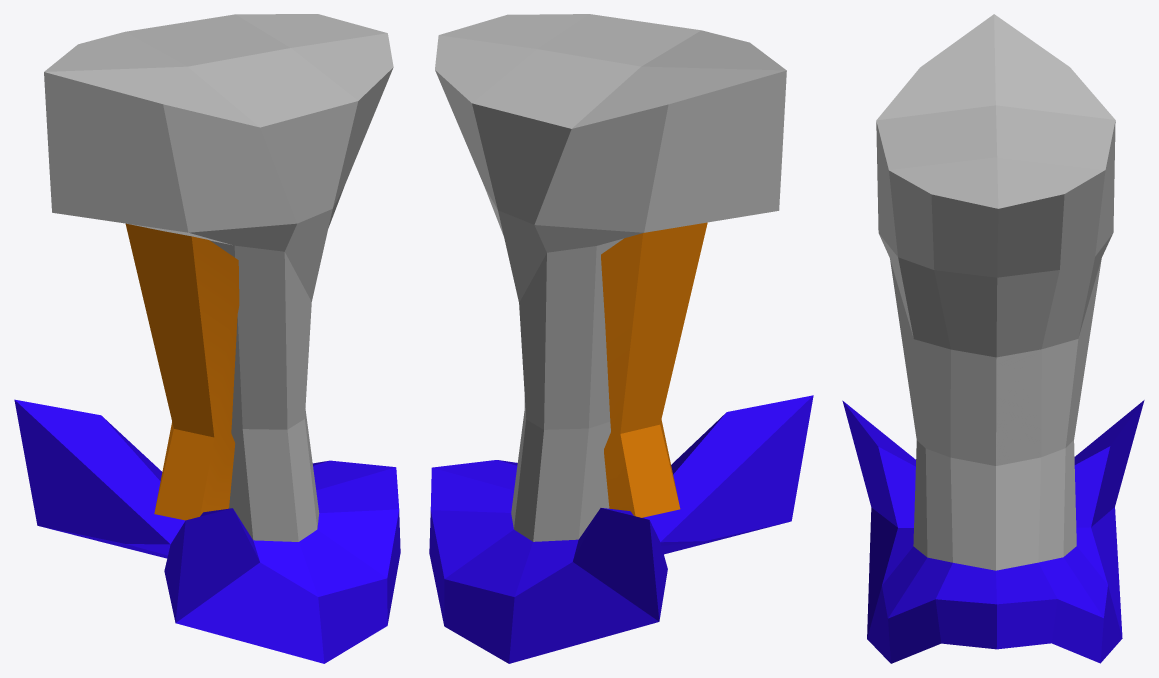
File: sharky_leg.glb
The picture shows the model from 3 angles, left to right: view 1: azimuth 30°, elevation 25°; view 2: azimuth 150°, elevation 25°; view 3: azimuth 270°, elevation 25°; orthographic projection. The views are drawn at different scales.
Parts seen in each view (by area): view 1: Normal_Sharky_RCalf; view 2: Normal_Sharky_RCalf; view 3: Normal_Sharky_RCalf.
Boxes of the visible parts, x1,y1,x2,y2 form: Normal_Sharky_RCalf: (14, 14, 400, 663); Normal_Sharky_RCalf: (429, 14, 813, 663); Normal_Sharky_RCalf: (842, 14, 1144, 663).
Bounding box in the file's own units: 0.3686 × 0.5887 × 0.3022.
